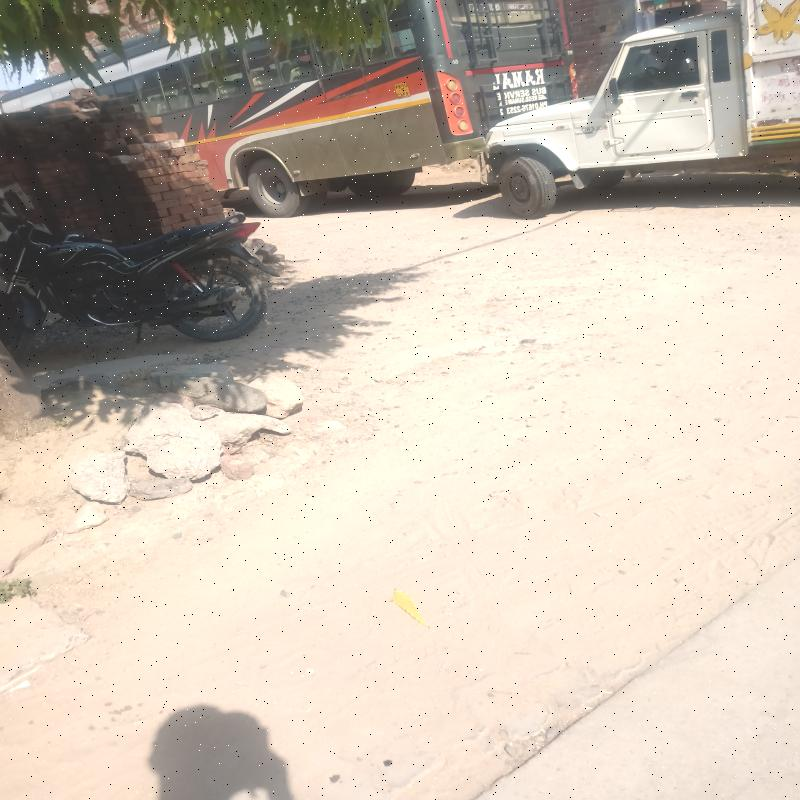bus: (0, 0, 583, 207)
